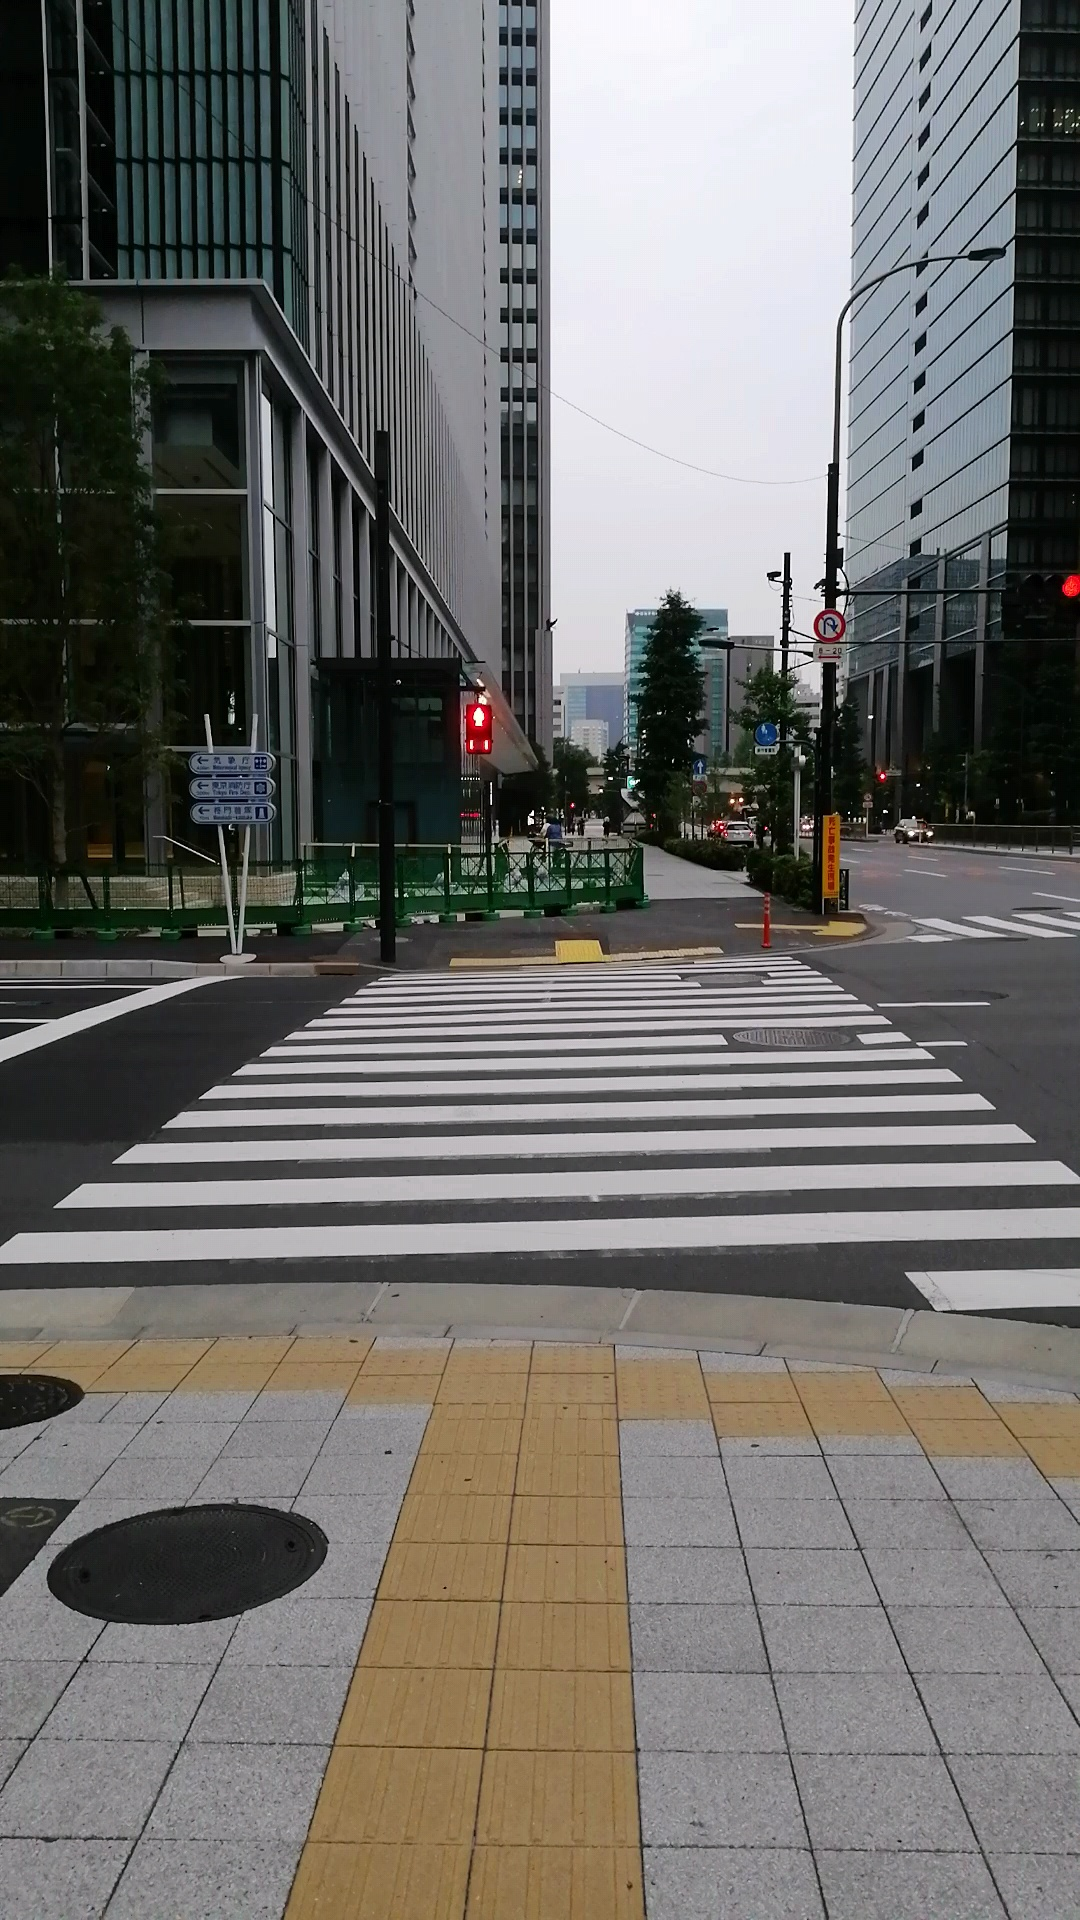red: (464, 703, 493, 753)
